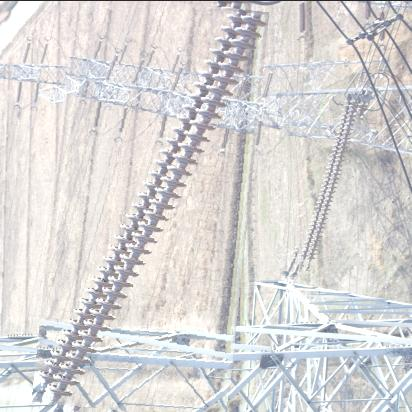insulator: (43, 1, 260, 412), (287, 95, 372, 270)
